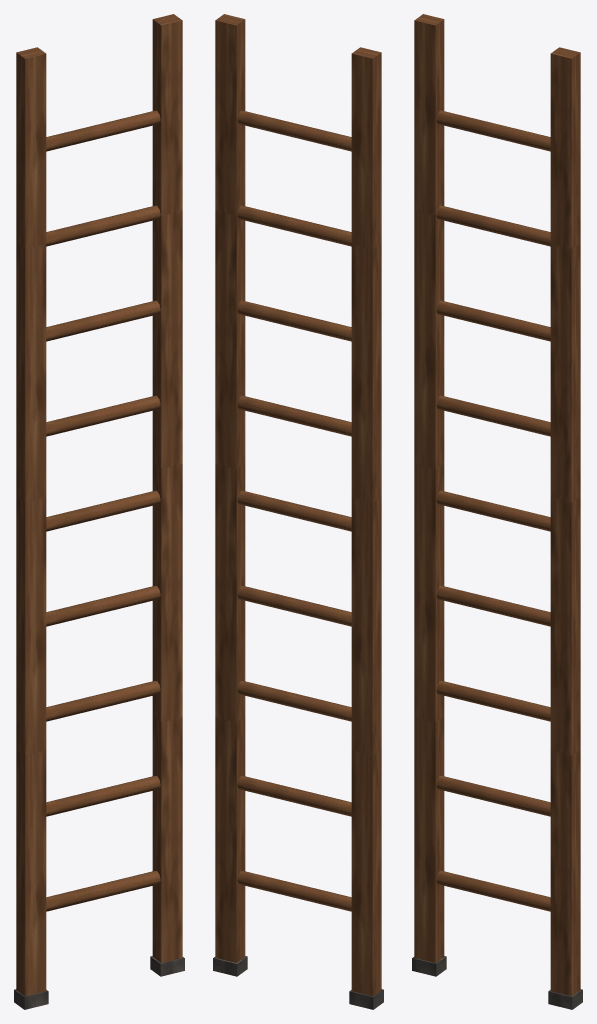
File: ladder.glb
3 views of the same model, side by side, from view 1: azimuth 30°, elevation 25°; view 2: azimuth 150°, elevation 25°; view 3: azimuth 330°, elevation 25° (orthographic).
Parts seen in each view (by area): view 1: Ladder_oak, Ladder_iron; view 2: Ladder_oak, Ladder_iron; view 3: Ladder_oak, Ladder_iron.
Part boxes in pixels (box(x1,y1,x2,y2)): Ladder_oak: box(16, 14, 182, 996); Ladder_iron: box(14, 956, 184, 1009); Ladder_oak: box(215, 14, 381, 996); Ladder_iron: box(213, 956, 383, 1009); Ladder_oak: box(414, 14, 580, 996); Ladder_iron: box(412, 956, 582, 1009).
Size of the model in its own units: 0.53 by 3 by 0.06.
Materials: 2 (2 with a texture image).
